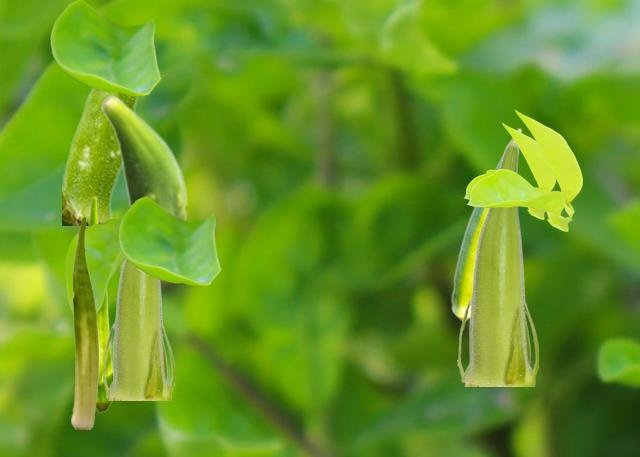okra: (456, 141, 537, 385), (100, 94, 188, 274), (451, 127, 521, 320), (62, 87, 139, 224), (101, 259, 173, 399), (71, 216, 98, 428), (87, 195, 113, 412)
